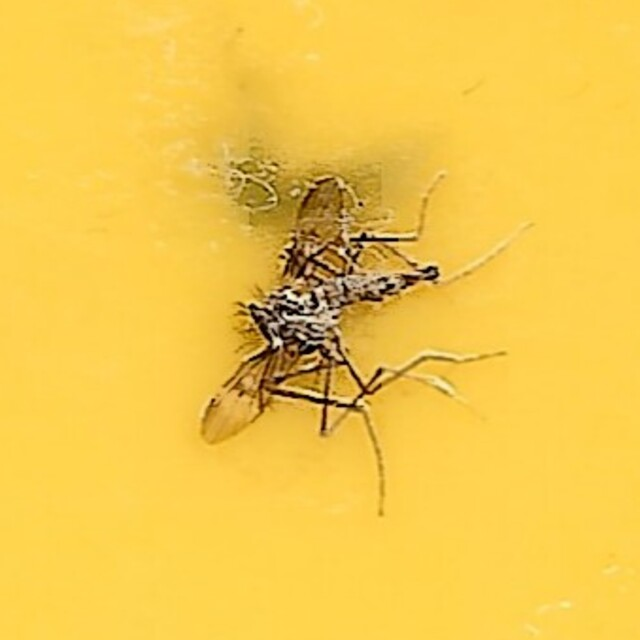Nematocera: (189, 176, 451, 464)
